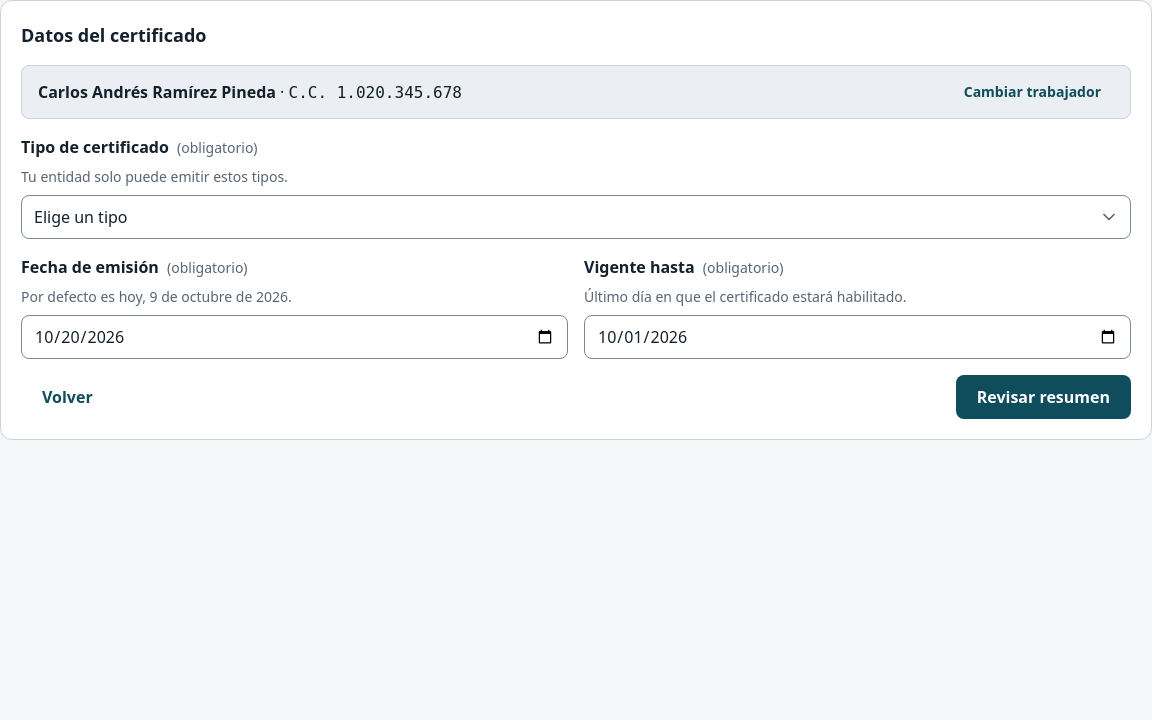
Test case: DetailsStep › shows an error summary with every problem and marks the fields invalid
Click the button "Revisar resumen": (1043, 397) [956,375,1131,419]
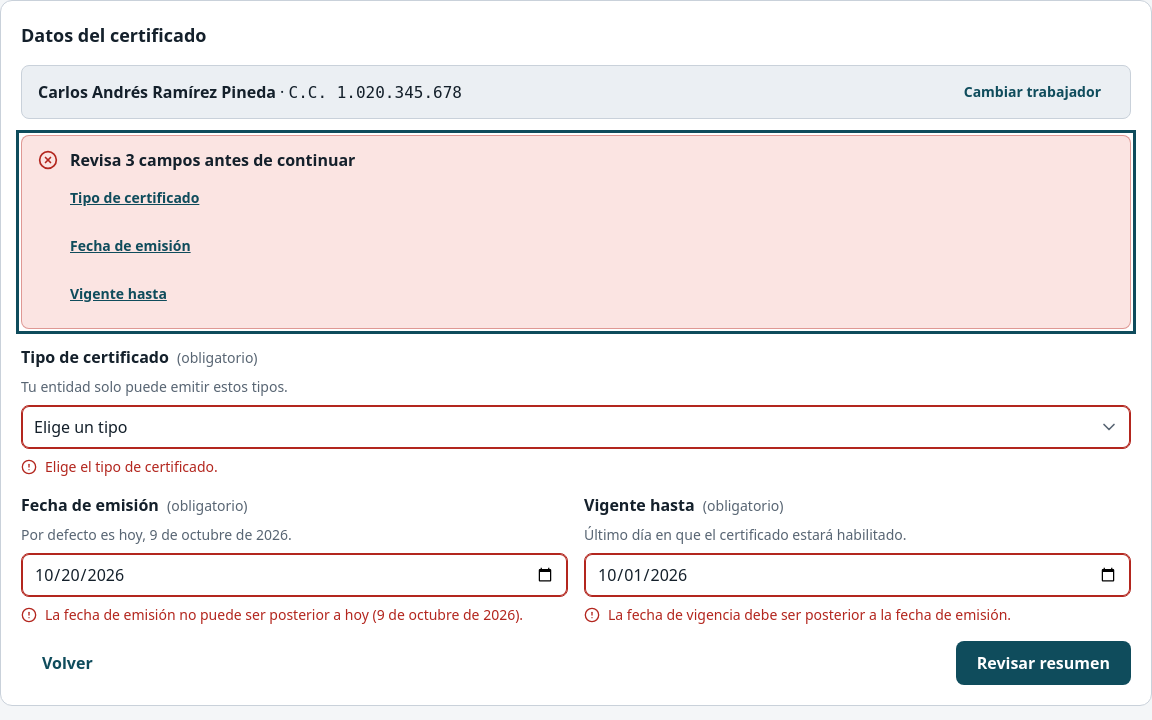
Check: the text "Revisa 3 campos antes de continuar" is shown, box [70,149,355,171]
